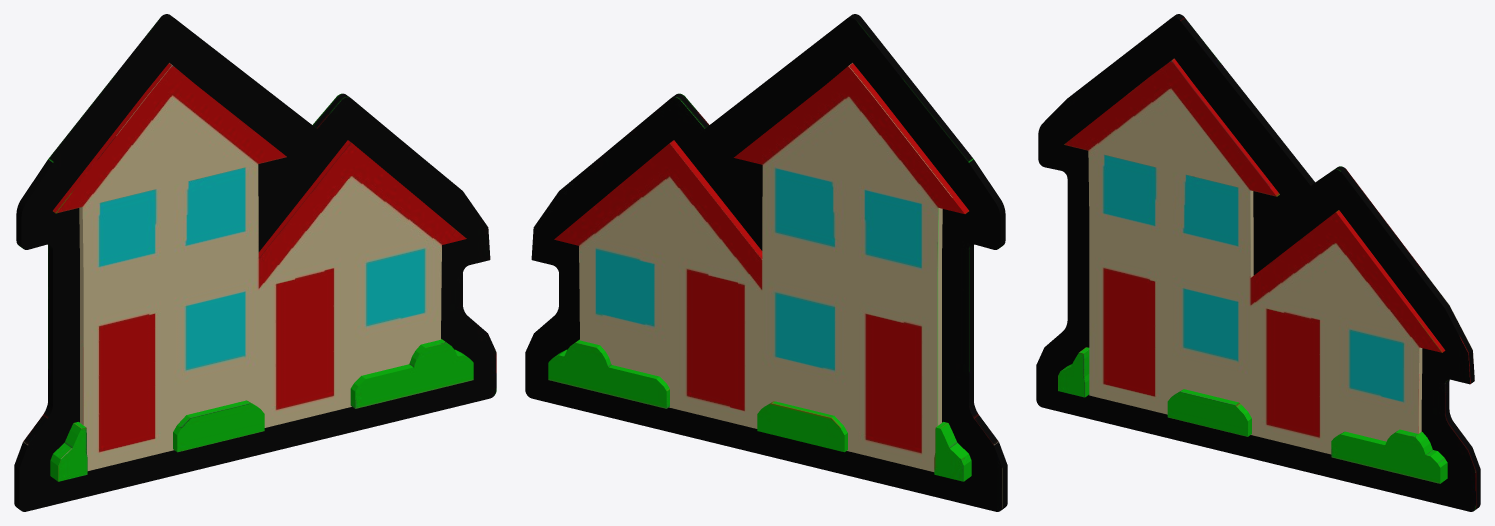
Rendered from Community_badge.glb.
3 renders of one model, left to right at view 1: azimuth 30°, elevation 25°; view 2: azimuth 150°, elevation 25°; view 3: azimuth 330°, elevation 25°, orthographic. The views are drawn at different scales.
Parts seen in each view (by area): view 1: Community Badge; view 2: Community Badge; view 3: Community Badge.
Part boxes in pixels (x1=…): Community Badge: x1=14, y1=14, x2=496, y2=511; Community Badge: x1=525, y1=14, x2=1007, y2=511; Community Badge: x1=1036, y1=14, x2=1480, y2=511.
Bounding box in the file's own units: 0.0884 × 0.0812 × 0.00663.
Materials: 1 (1 with a texture image).
